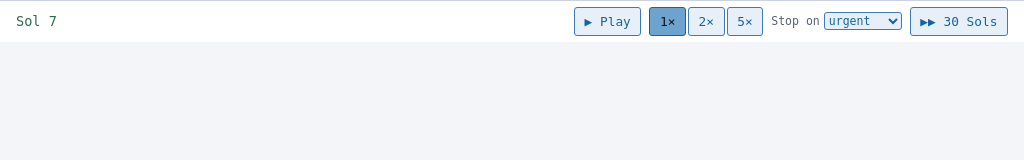
Test: TurnControlBar time controls (issue #332) › keeps playing when a run completes without halting
Step 1. Click the button with test id "btn-play-pause" → [608, 22], box [574,7,641,36]
Wait 2500 ms
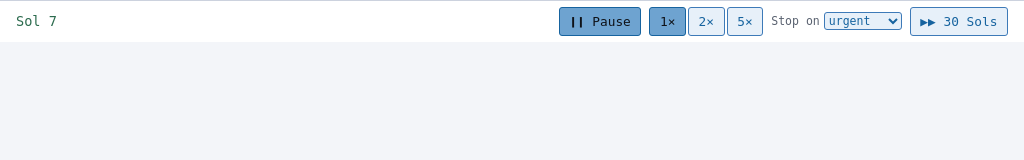
Expected: the button with test id "btn-play-pause" shows "Pause", [559,7,641,36]
